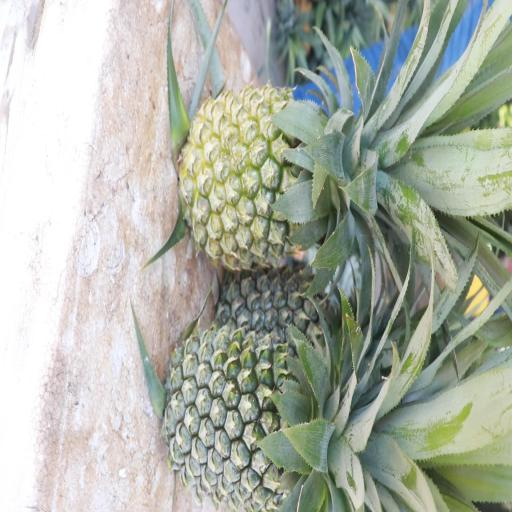Pineapple - v8 v1: (183, 82, 364, 276)
